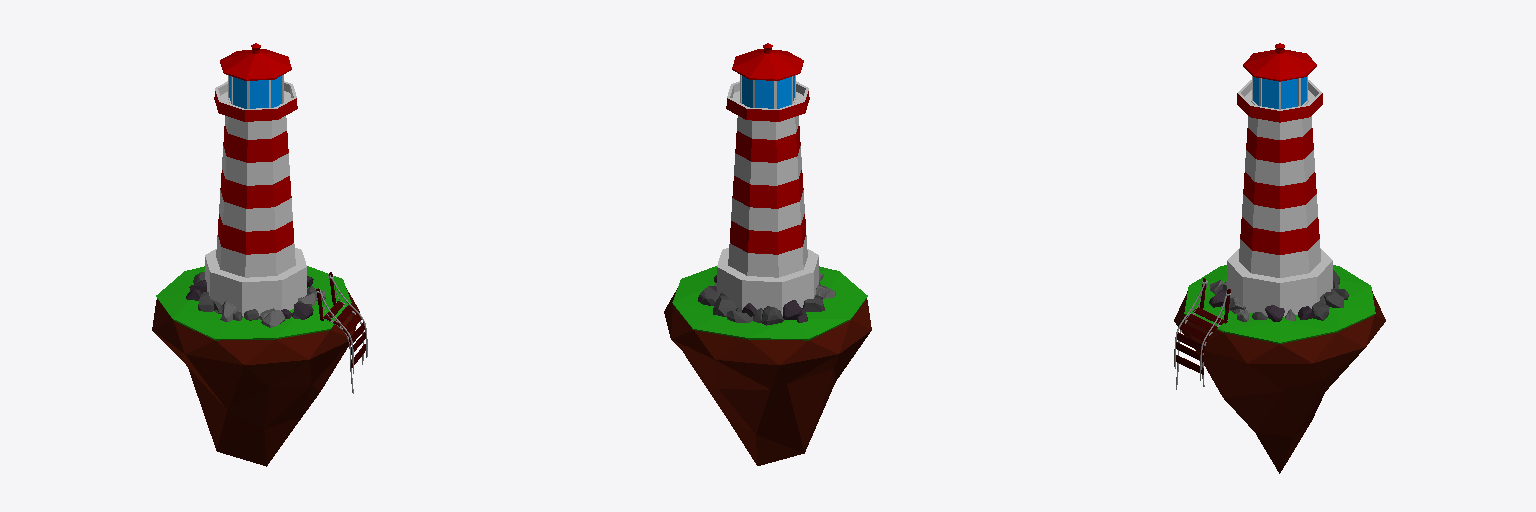
Rendered from Lighthouse.obj.
3 views of the same model, side by side, from view 1: azimuth 30°, elevation 25°; view 2: azimuth 150°, elevation 25°; view 3: azimuth 270°, elevation 25° (orthographic).
Parts seen in each view (by area): view 1: lighthouse, ground_05, field_02, stone_03, bridge_002; view 2: lighthouse, ground_05, field_02, stone_03; view 3: lighthouse, ground_05, field_02, stone_03, bridge_002.
Part boxes in pixels (left/top/right/bottom): lighthouse: left=205, top=43, right=306, bottom=316; ground_05: left=152, top=288, right=359, bottom=466; field_02: left=156, top=266, right=351, bottom=340; stone_03: left=186, top=272, right=325, bottom=327; bridge_002: left=316, top=272, right=365, bottom=367; lighthouse: left=717, top=43, right=818, bottom=315; ground_05: left=664, top=288, right=871, bottom=465; field_02: left=672, top=266, right=867, bottom=340; stone_03: left=698, top=272, right=835, bottom=325; lighthouse: left=1227, top=43, right=1332, bottom=316; ground_05: left=1174, top=291, right=1385, bottom=473; field_02: left=1184, top=265, right=1375, bottom=343; stone_03: left=1209, top=270, right=1348, bottom=321; bridge_002: left=1176, top=278, right=1230, bottom=374.
Size of the model in its own units: 2.42 by 5.63 by 2.55.